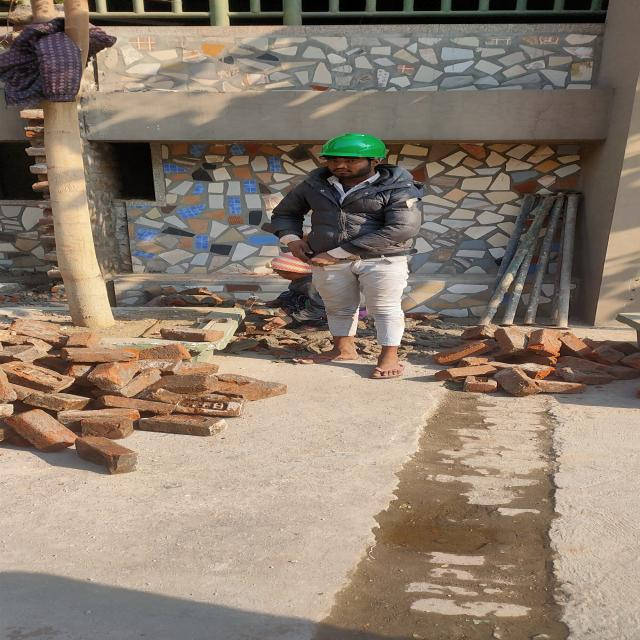no jacket: (279, 134, 421, 380)
unsafe: (263, 252, 319, 332)
